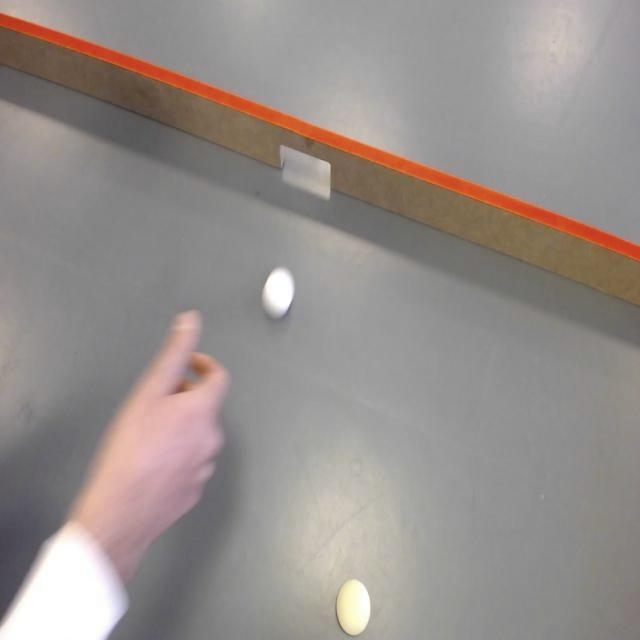white-golf-balls: (259, 266, 300, 321), (334, 578, 372, 636)
